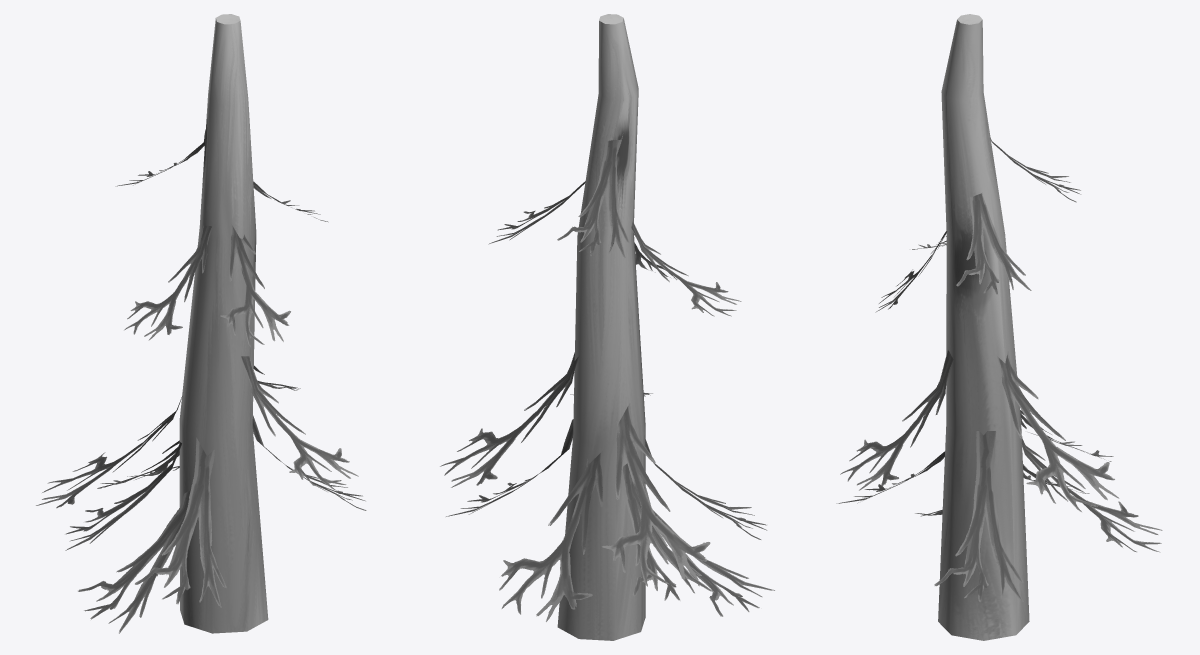
File: env_tree_spruce_dead_02.fbx
3 renders of one model, left to right at view 1: azimuth 30°, elevation 25°; view 2: azimuth 150°, elevation 25°; view 3: azimuth 270°, elevation 25°, orthographic.
Parts seen in each view (by area): view 1: env_tree_dead_2335; view 2: env_tree_dead_2335; view 3: env_tree_dead_2335.
Boxes of the visible parts, <box> form: env_tree_dead_2335: <box>36,14,366,633</box>; env_tree_dead_2335: <box>440,14,774,640</box>; env_tree_dead_2335: <box>836,14,1162,640</box>.
Size of the model in its own units: 145 by 259 by 144.
Materials: 1 (1 with a texture image).
